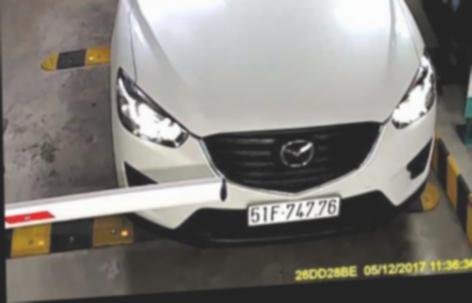License_Plate: (245, 196, 339, 227)
